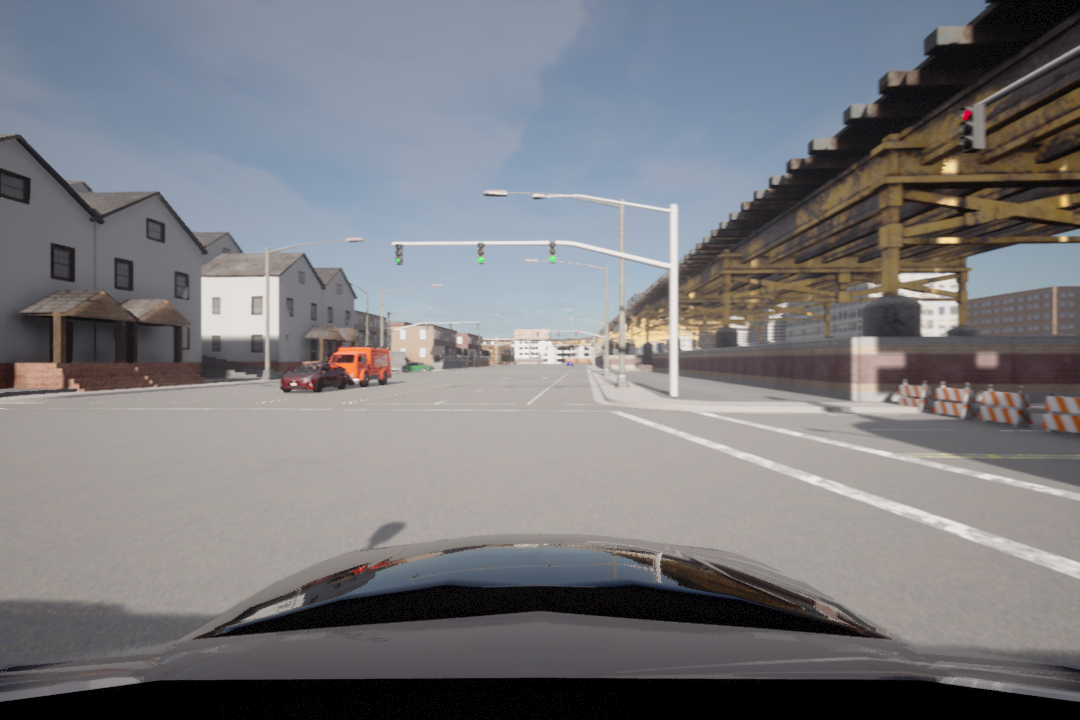TrafficLight: (958, 103, 991, 161), (393, 241, 407, 271), (473, 241, 487, 267), (547, 240, 557, 268)
